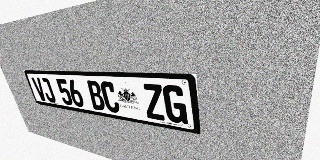5: (55, 79, 74, 106)
6: (66, 79, 85, 108)
B: (86, 80, 106, 111)
C: (99, 81, 121, 114)
G: (162, 85, 188, 125)
J: (39, 78, 57, 103)
V: (31, 77, 48, 102)
Z: (141, 83, 166, 121)
